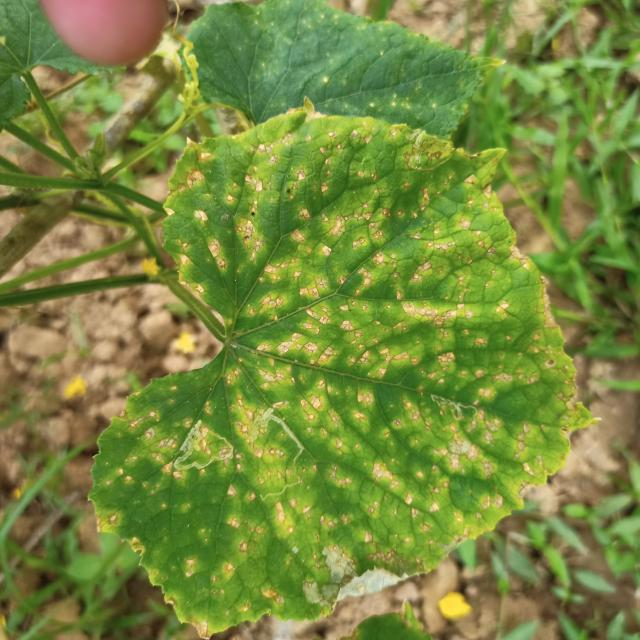disease_cucumber: (103, 130, 578, 614)
